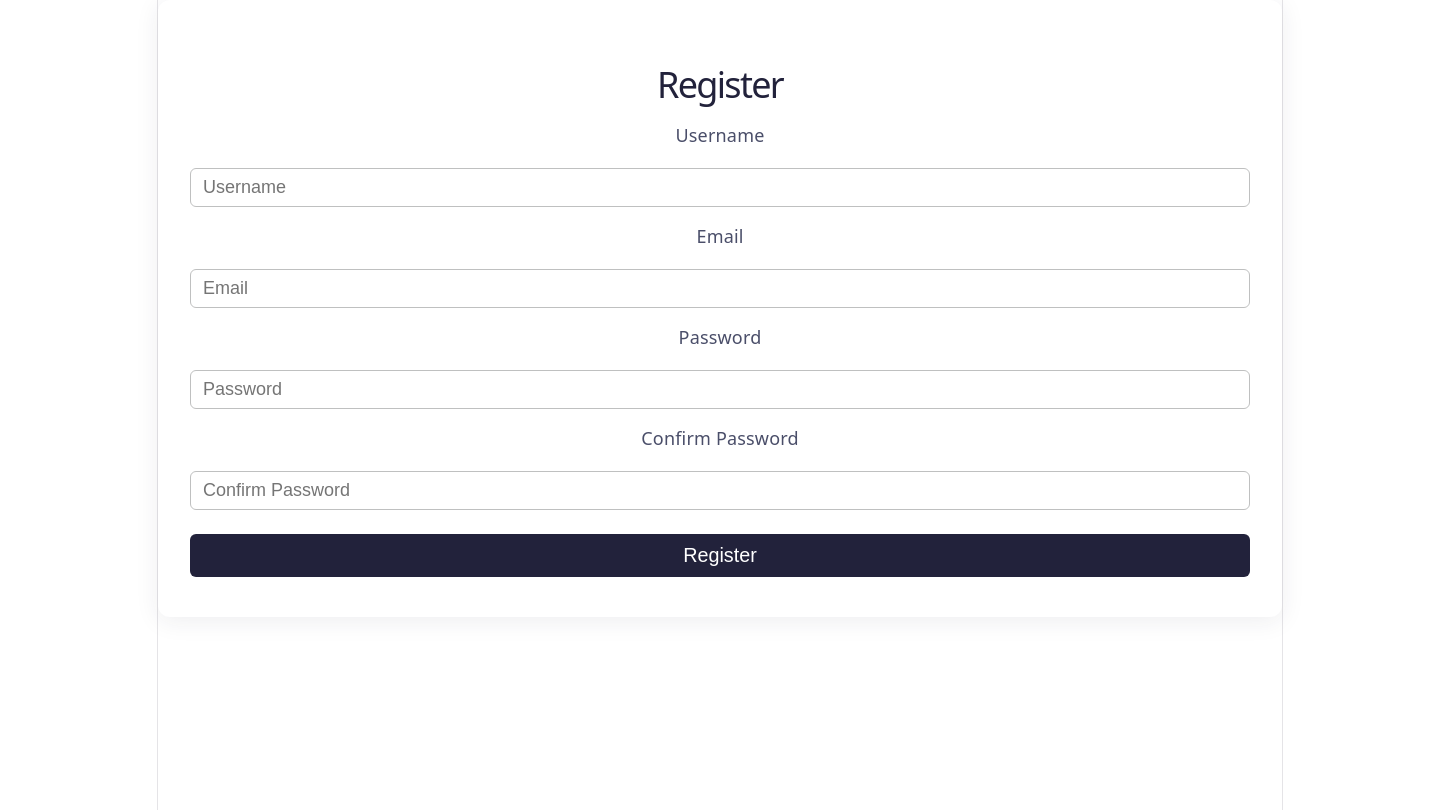
Test case: Register Page › displays error message when registration fails
Type "existinguser" into the field labelled "Username" at (720, 188), box left=190, top=168, right=1250, bottom=207
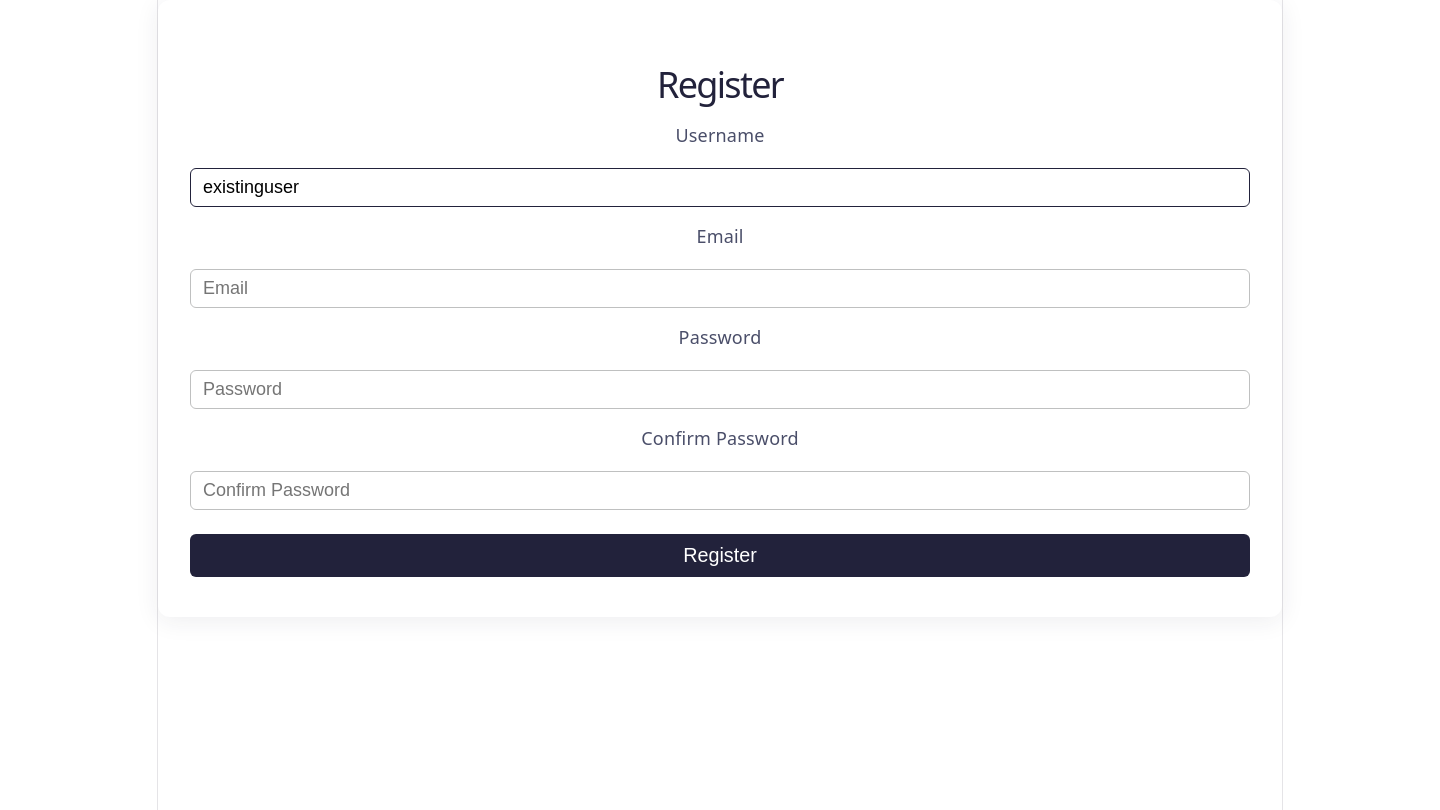
Type "exist@user.com" into the field labelled "Email" at (720, 289), box left=190, top=269, right=1250, bottom=308
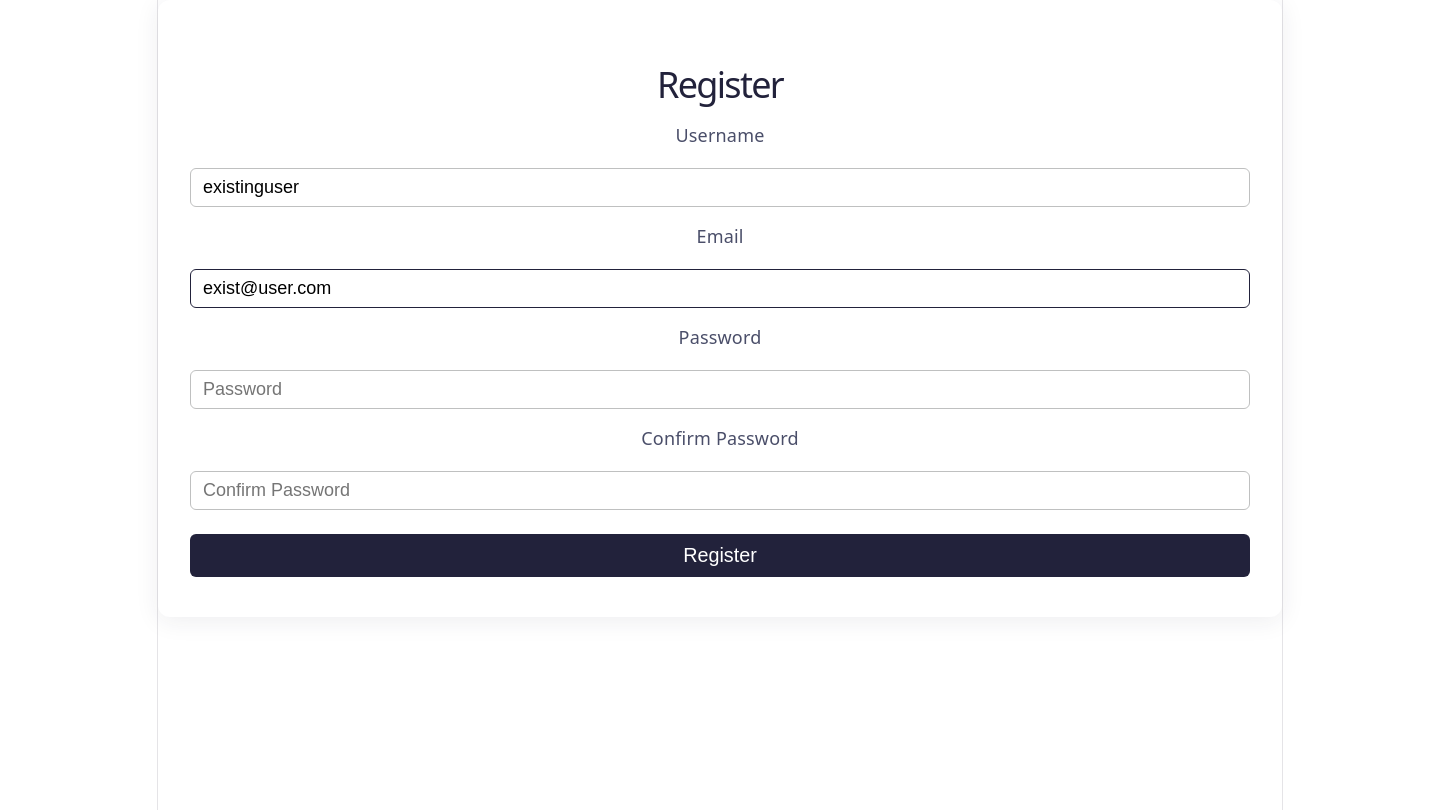
Type "password" into the password field labelled "Password" at (720, 390), box left=190, top=370, right=1250, bottom=409
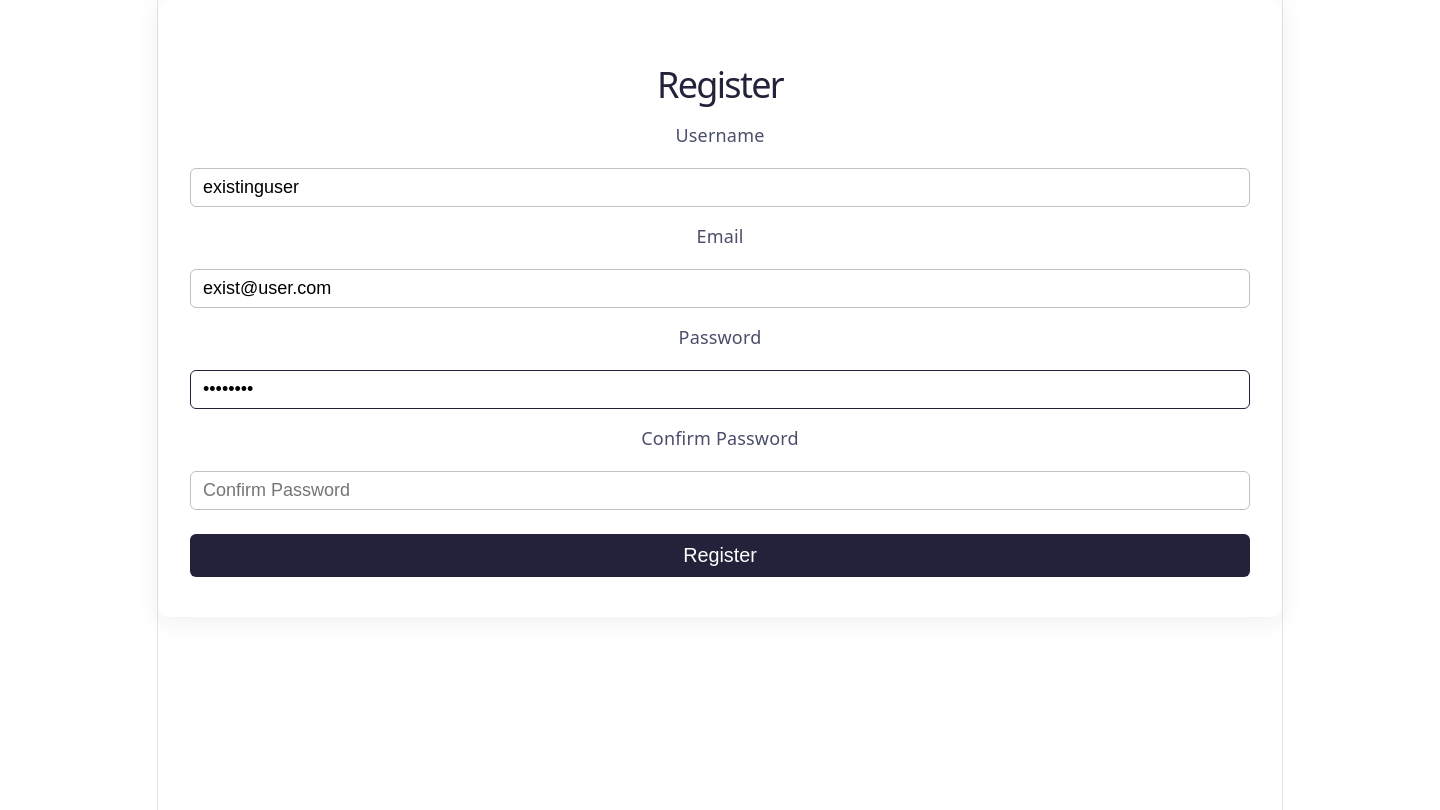
Type "password" into the password field labelled "Confirm Password" at (720, 491), box left=190, top=472, right=1250, bottom=510
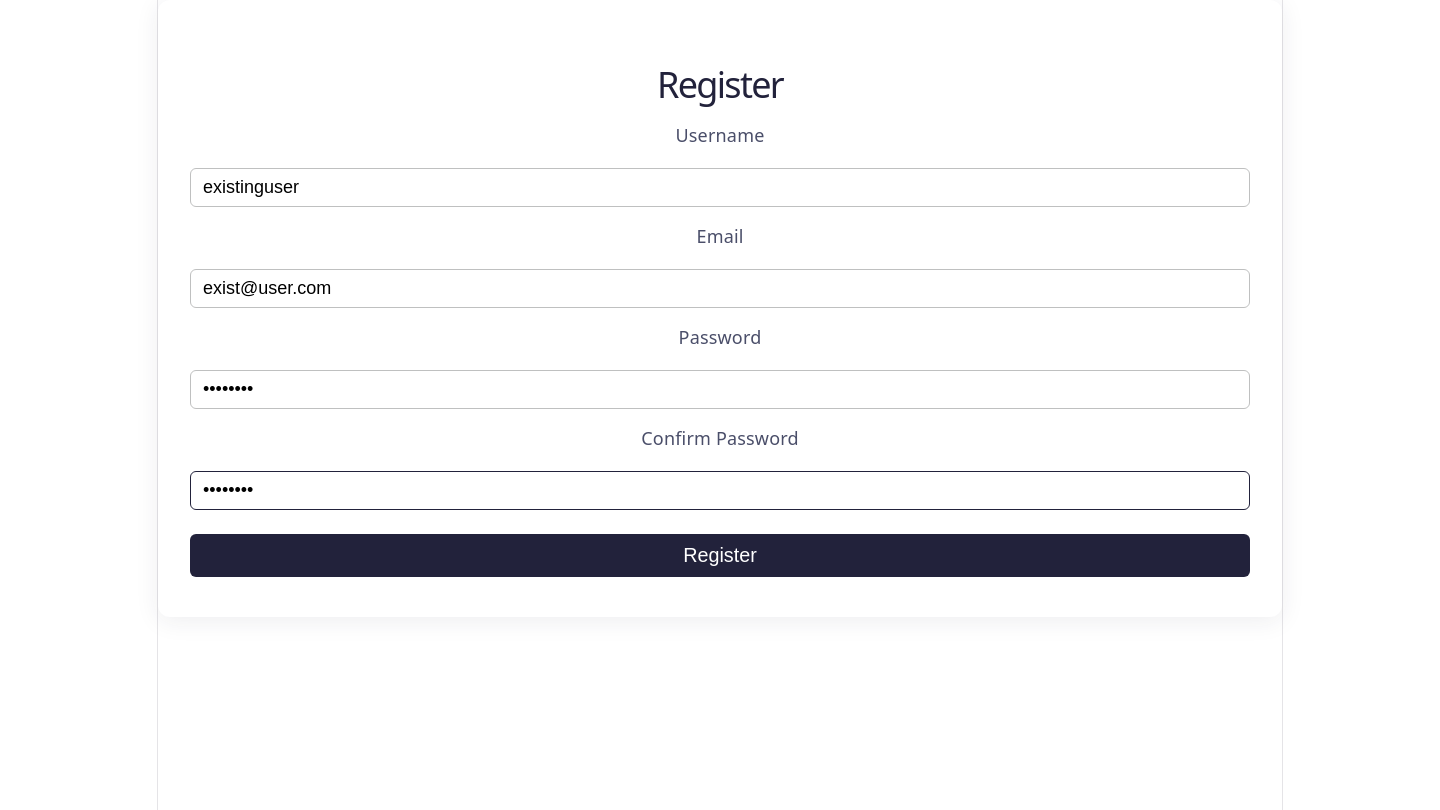
Click the button "Register" at (720, 556), box left=190, top=534, right=1250, bottom=578
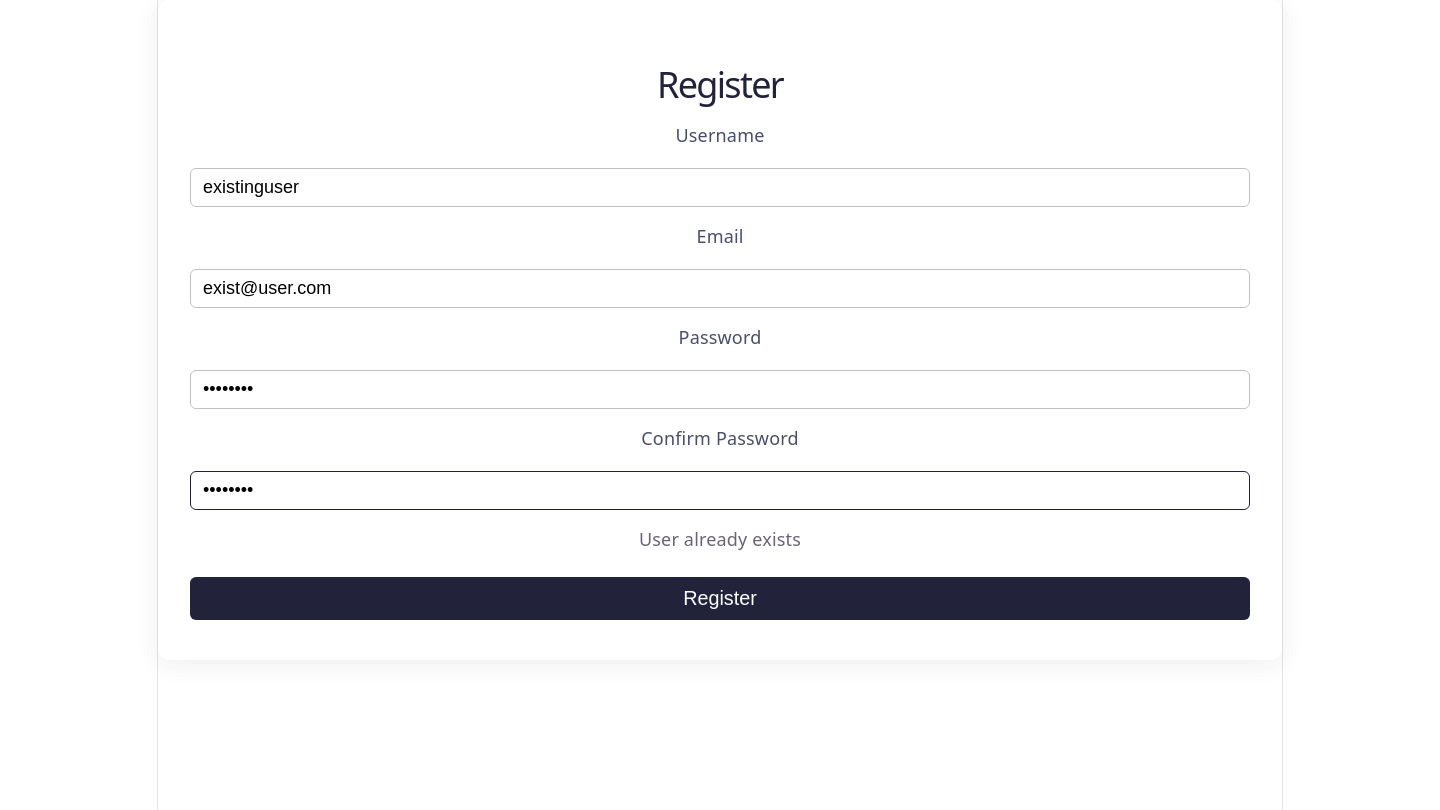
Now the text "User already exists" is shown, box left=639, top=528, right=801, bottom=552
